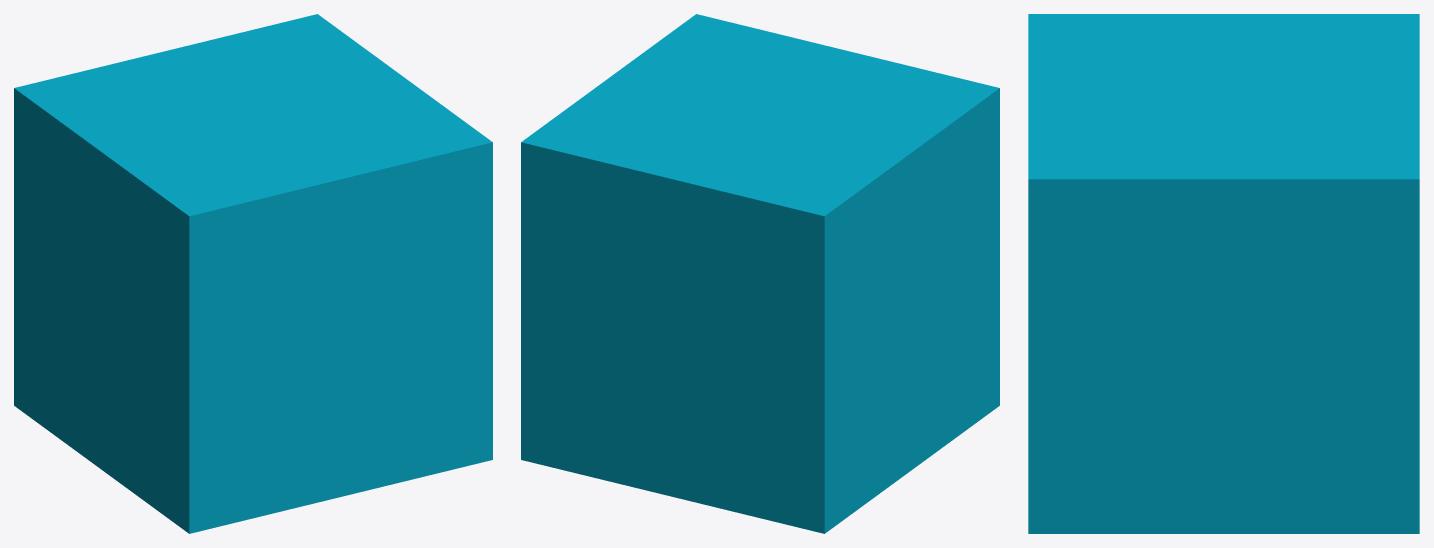
File: GreenCube1.glb
3 renders of one model, left to right at view 1: azimuth 30°, elevation 25°; view 2: azimuth 150°, elevation 25°; view 3: azimuth 270°, elevation 25°, orthographic. The views are drawn at different scales.
Size of the model in its own units: 1 by 1 by 1.
